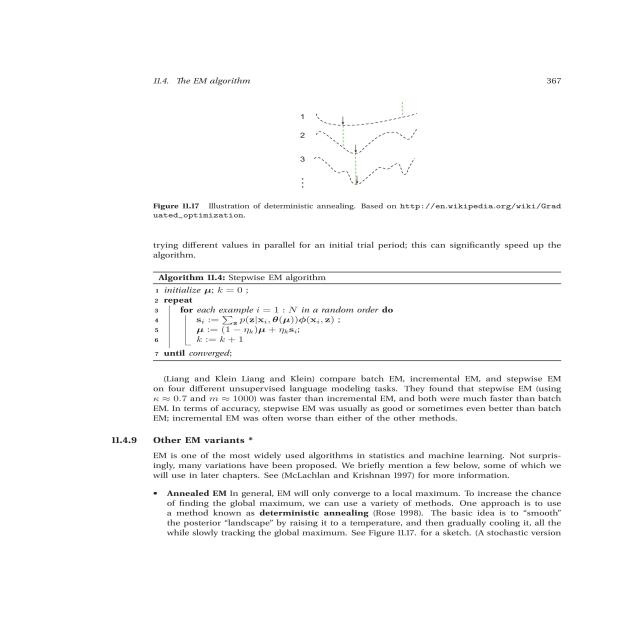diagram: (135, 68, 594, 234)
